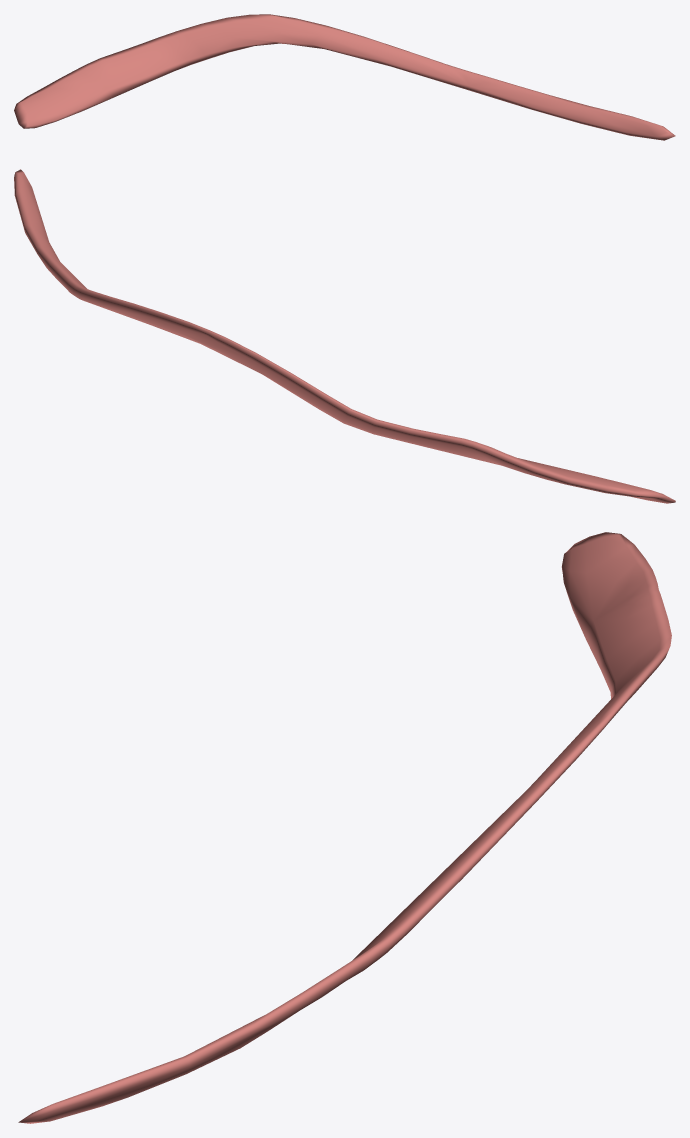
3 views of the same model, one above another, from view 1: azimuth 30°, elevation 25°; view 2: azimuth 150°, elevation 25°; view 3: azimuth 270°, elevation 25° (orthographic). The views are drawn at different scales.
Visible parts, largest first — view 1: ZA_30c925f10177ae8e; view 2: ZA_30c925f10177ae8e; view 3: ZA_30c925f10177ae8e.
Boxes of the visible parts, <box> form: ZA_30c925f10177ae8e: <box>14,14,675,140</box>; ZA_30c925f10177ae8e: <box>14,169,675,503</box>; ZA_30c925f10177ae8e: <box>18,532,671,1123</box>.
Bounding box in the file's own units: 0.0405 × 0.00623 × 0.0222.
